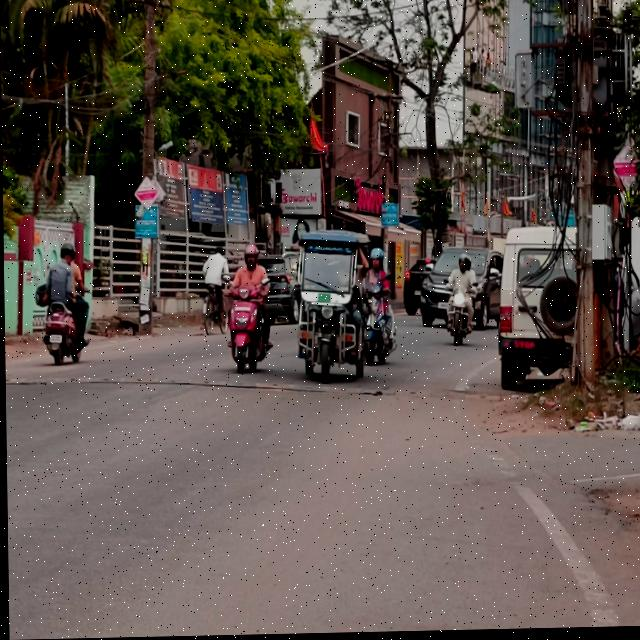bike: (220, 276, 273, 376), (42, 286, 82, 366), (445, 280, 482, 354)
car: (492, 225, 579, 394), (420, 246, 507, 333)
